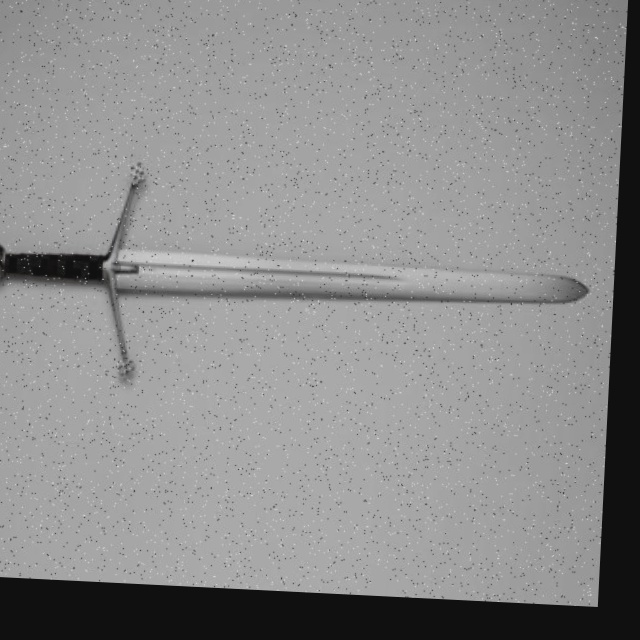Sharp-Object: (0, 226, 595, 338)
